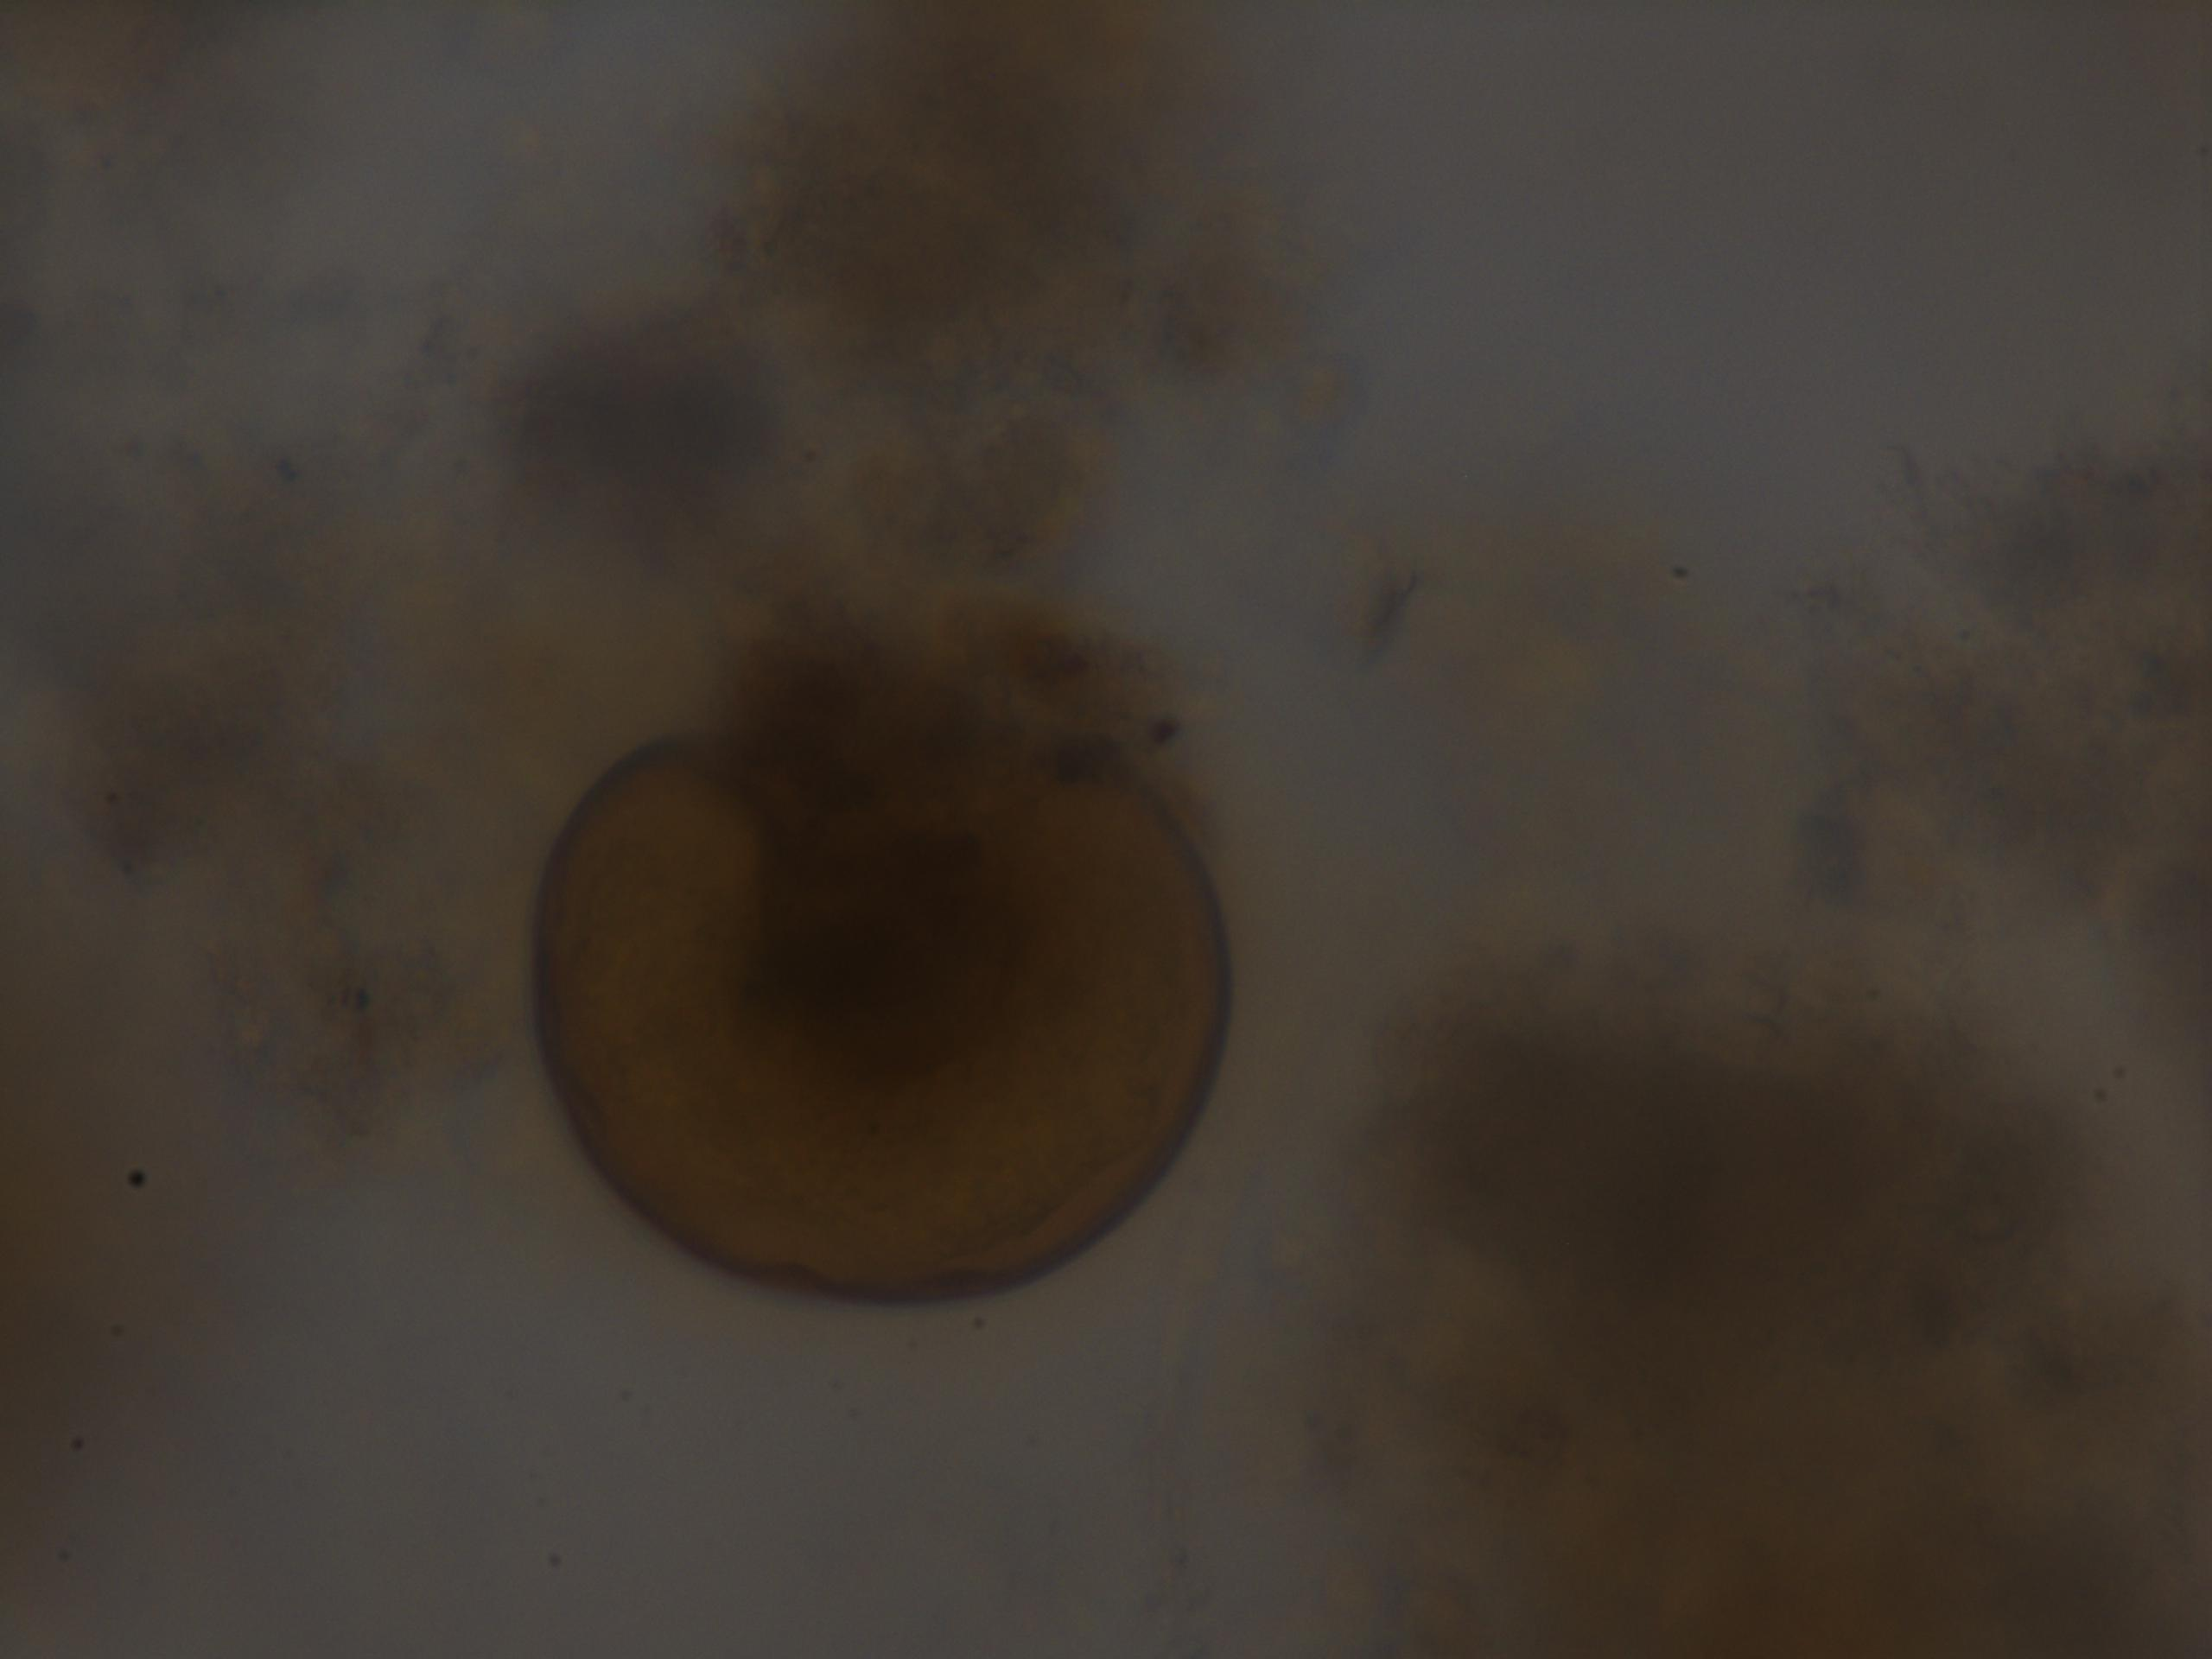protozoa: (517, 680, 1240, 1331)
